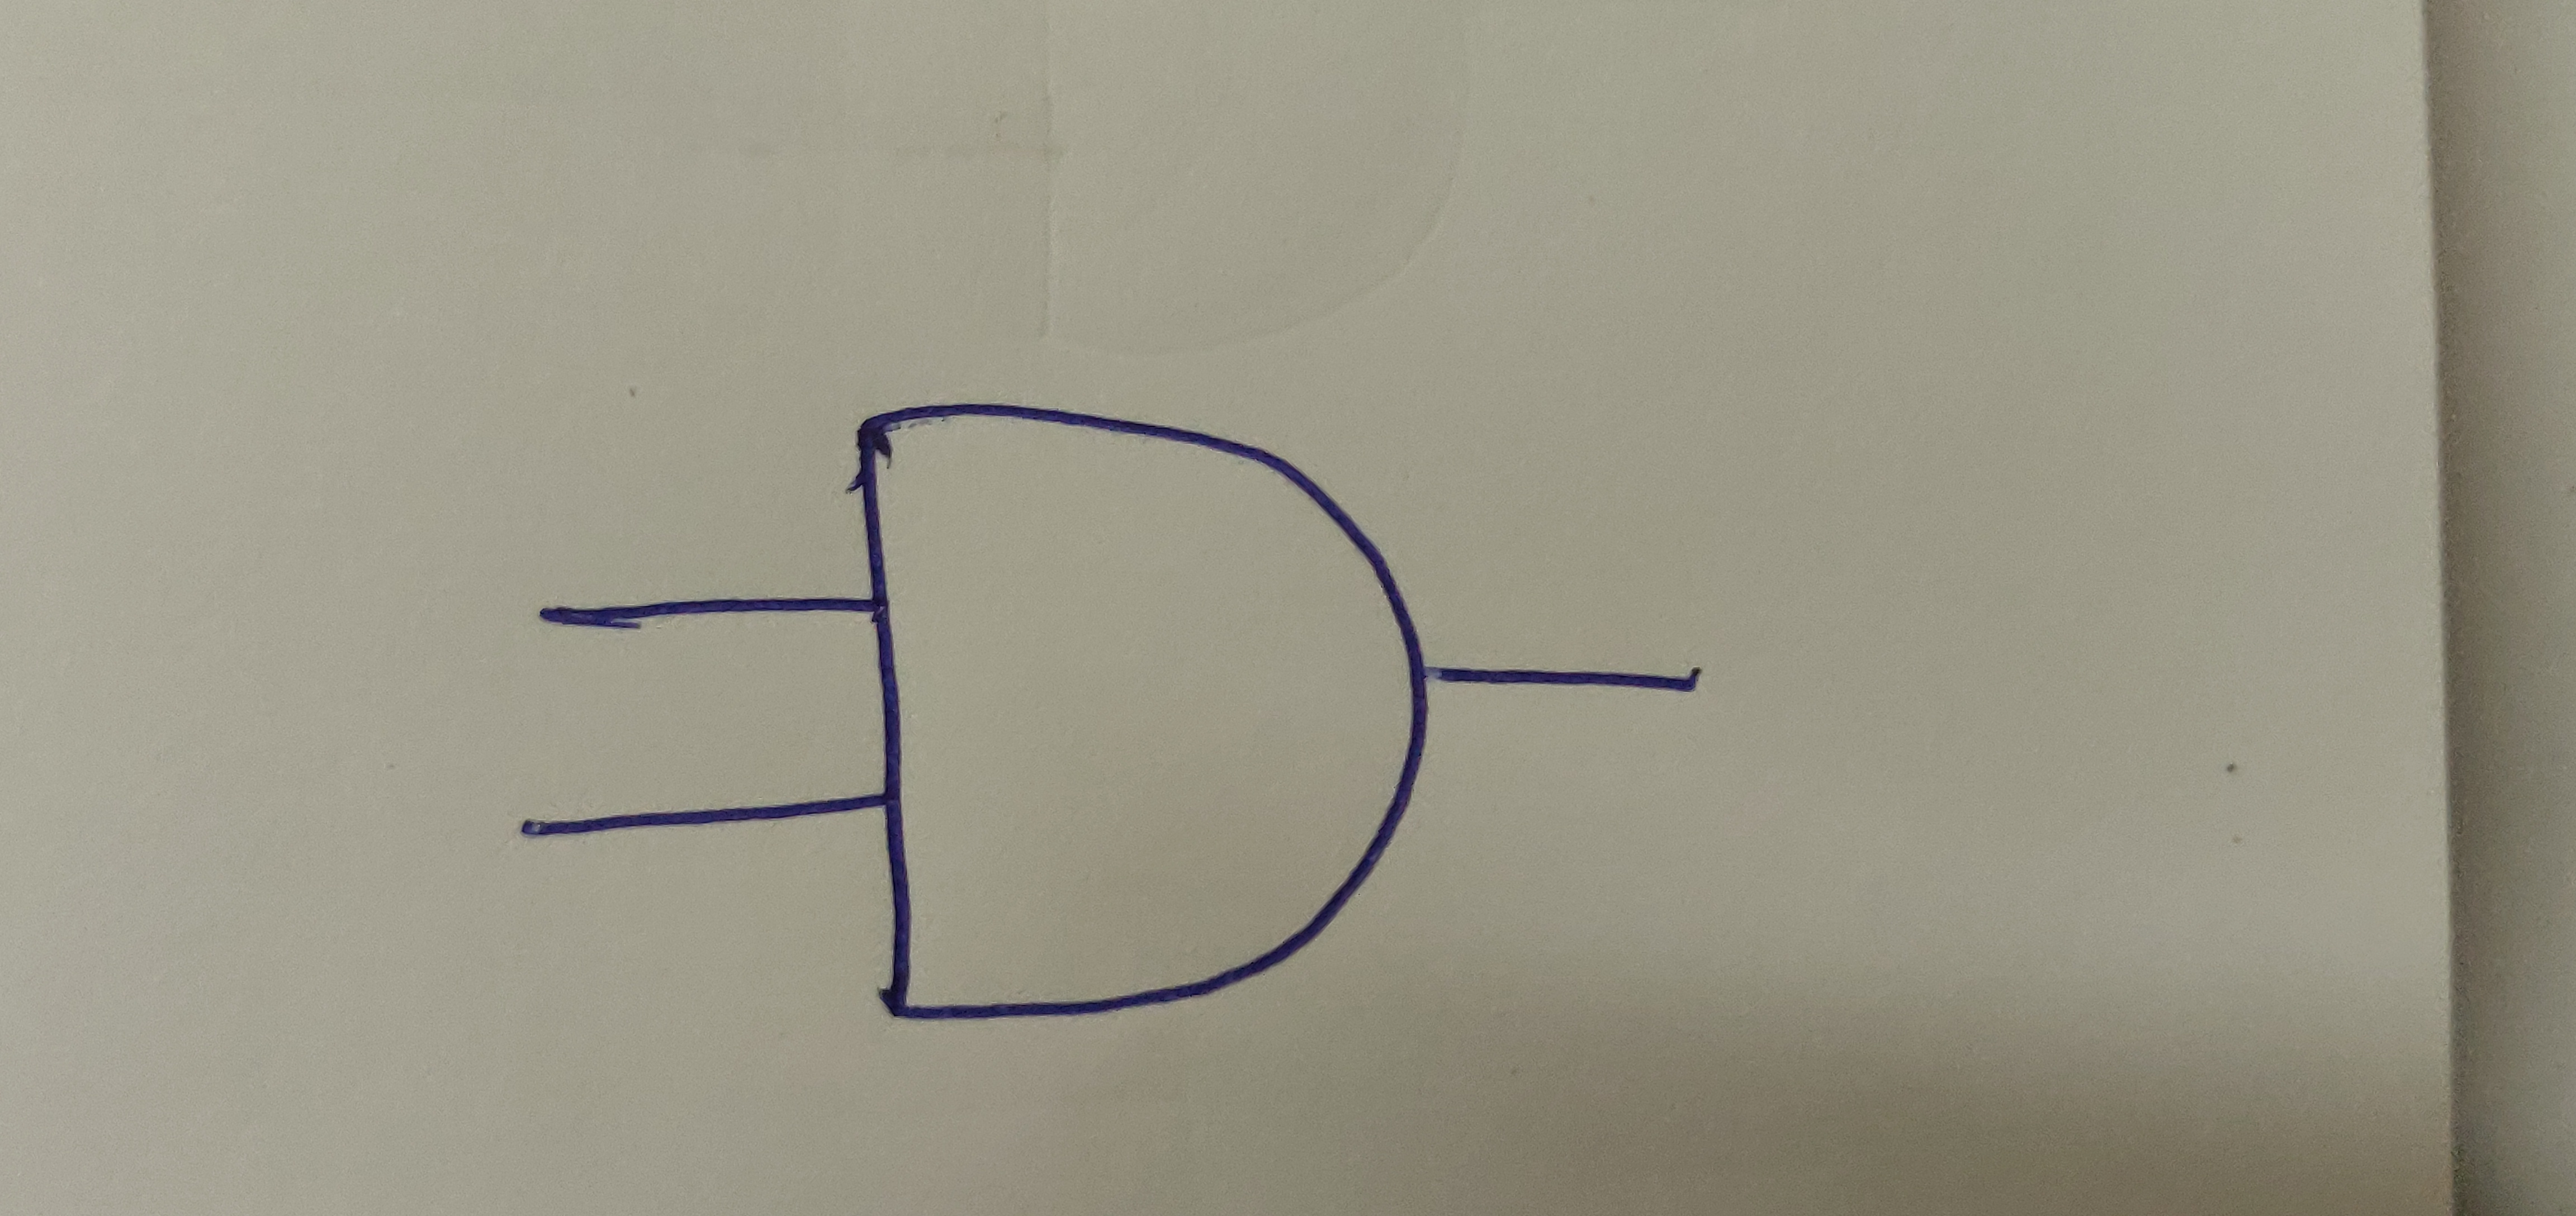and: (851, 414, 1433, 1029)
